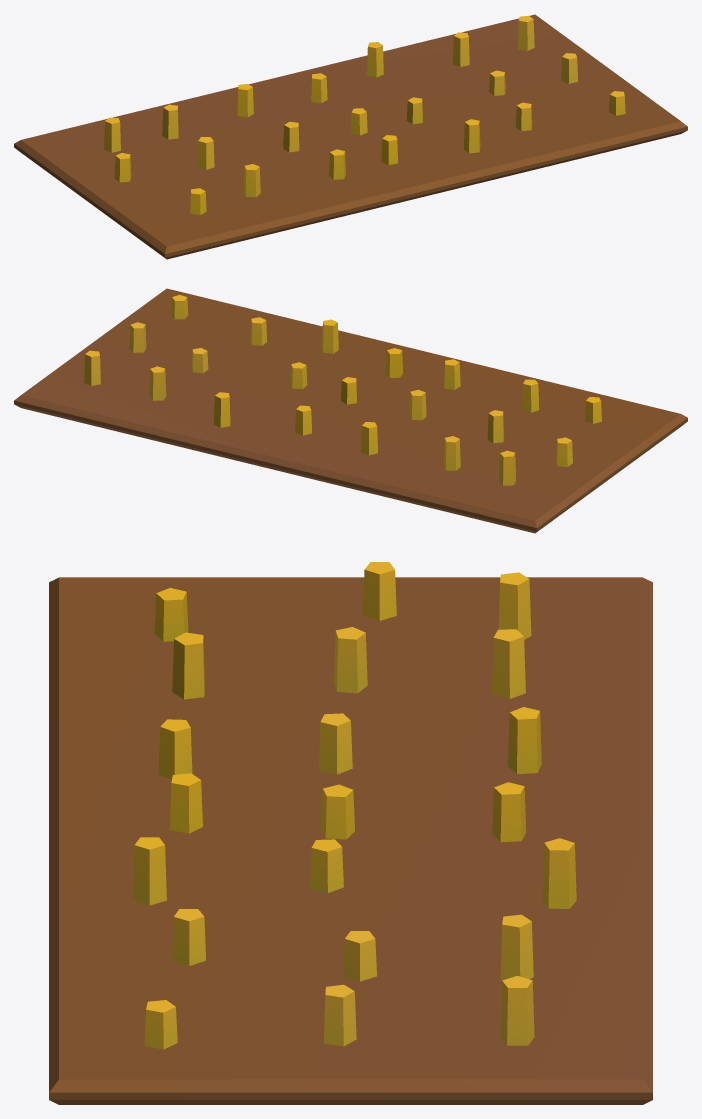
Rendered from Farm_Wheat_Harvested_3m.glb.
3 renders of one model, top to bottom at view 1: azimuth 30°, elevation 25°; view 2: azimuth 150°, elevation 25°; view 3: azimuth 270°, elevation 25°, orthographic. The views are drawn at different scales.
Parts seen in each view (by area): view 1: Farm_Wheat_Harvested_3m; view 2: Farm_Wheat_Harvested_3m; view 3: Farm_Wheat_Harvested_3m.
Part boxes in pixels (bbox=[...]): Farm_Wheat_Harvested_3m: bbox=[14, 14, 687, 259]; Farm_Wheat_Harvested_3m: bbox=[14, 288, 687, 533]; Farm_Wheat_Harvested_3m: bbox=[49, 562, 652, 1104].
Size of the model in its own units: 3 by 0.2283 by 1.5.
